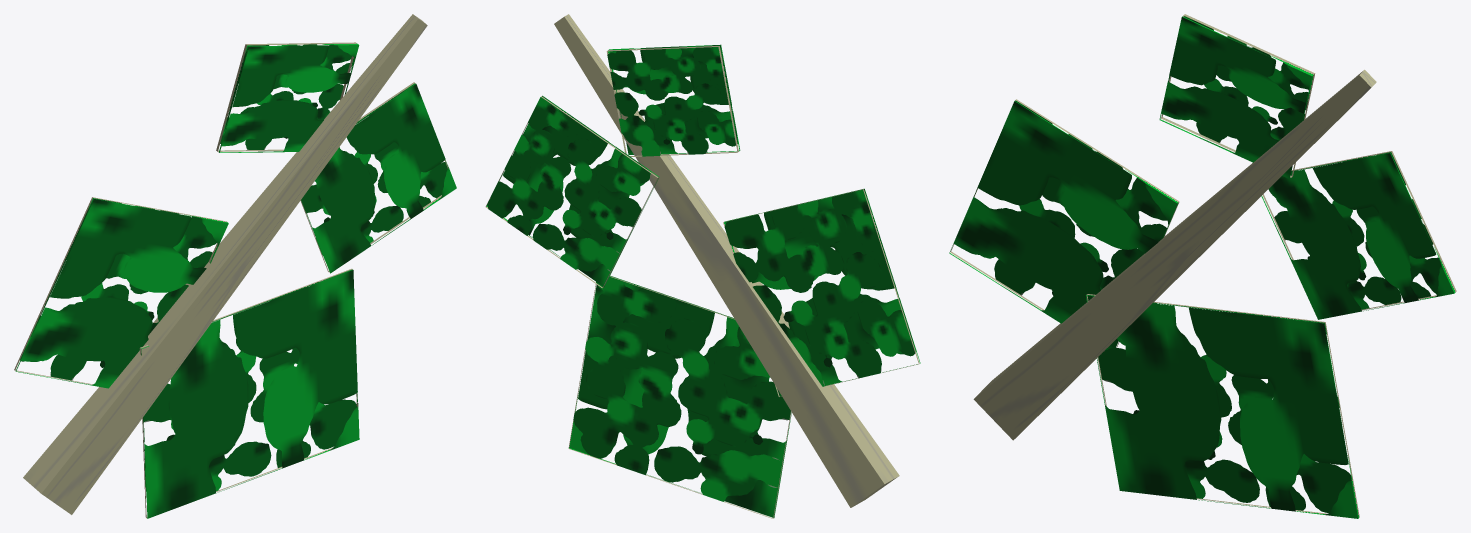
File: ObjectBirchTreeBranch4.obj
The picture shows the model from 3 angles, left to right: view 1: azimuth 30°, elevation 25°; view 2: azimuth 150°, elevation 25°; view 3: azimuth 330°, elevation 25°; orthographic projection. The views are drawn at different scales.
Visible parts, largest first — view 1: Cube.002, Cube, Cube.004, Cube.003, Cube.001; view 2: Cube.002, Cube.004, Cube, Cube.003, Cube.001; view 3: Cube.002, Cube.004, Cube, Cube.003, Cube.001.
Boxes of the visible parts, x1,y1,x2,y2 form: Cube.002: [139, 268, 359, 518]; Cube: [23, 14, 427, 514]; Cube.004: [14, 197, 228, 388]; Cube.003: [300, 82, 456, 273]; Cube.001: [216, 42, 359, 152]; Cube.002: [568, 275, 791, 518]; Cube.004: [723, 188, 920, 396]; Cube: [554, 14, 899, 507]; Cube.003: [485, 95, 659, 288]; Cube.001: [606, 44, 740, 156]; Cube.002: [1086, 294, 1359, 518]; Cube.004: [949, 99, 1179, 350]; Cube: [973, 69, 1376, 440]; Cube.003: [1261, 151, 1456, 319]; Cube.001: [1159, 14, 1315, 178].
Size of the model in its own units: 6.88 by 6.83 by 0.8478.
